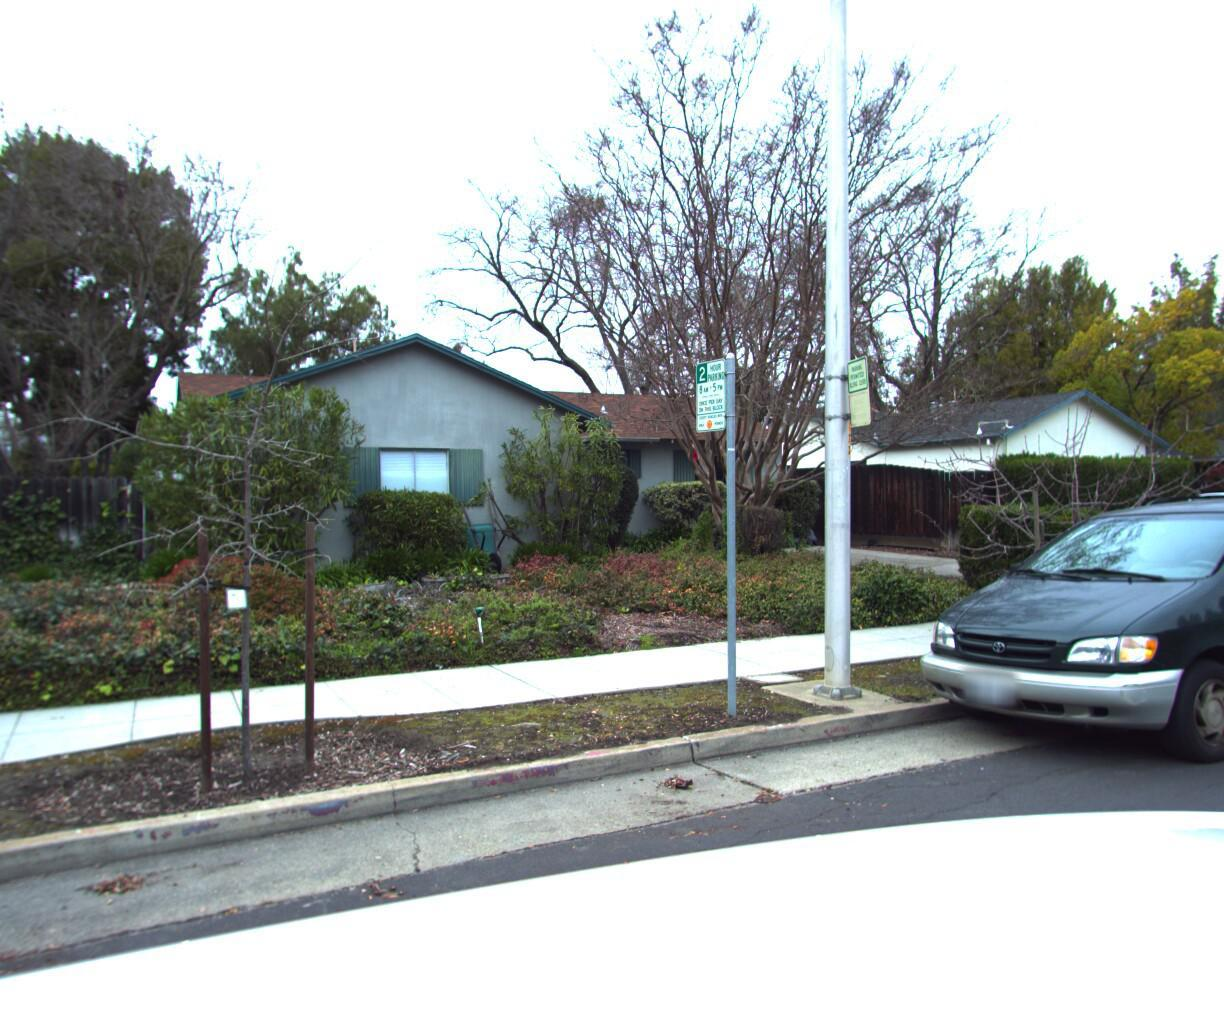car: (871, 478, 1224, 803), (1134, 490, 1224, 539)
